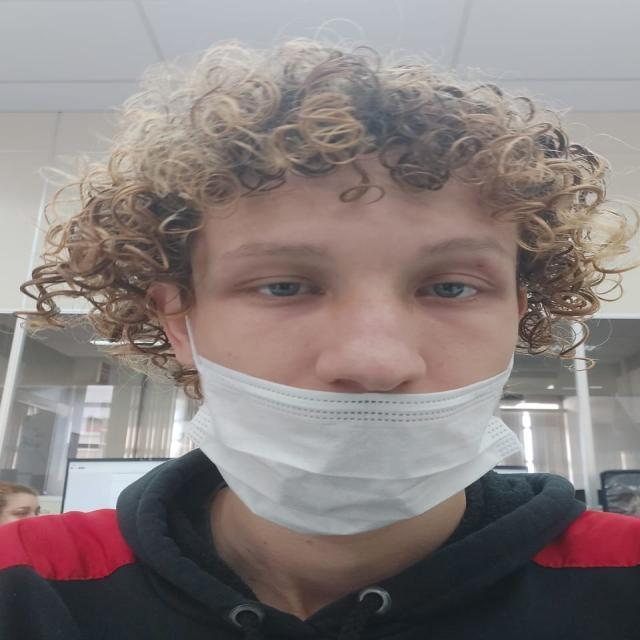hairnet: (182, 197, 514, 516)
